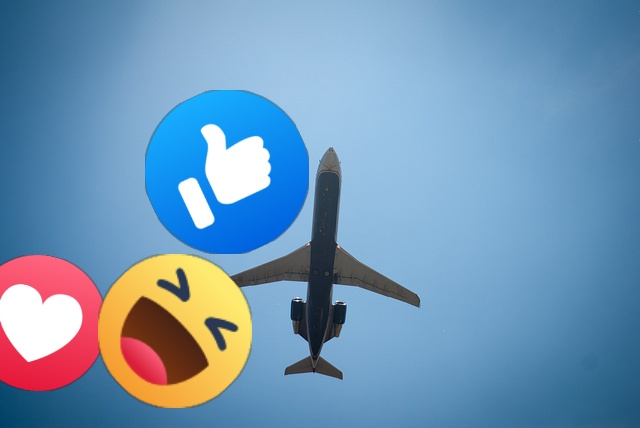haha: (98, 254, 252, 408)
like: (145, 90, 309, 254)
love: (0, 255, 106, 391)
